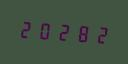eight: (72, 20, 89, 45)
two: (90, 21, 107, 47), (18, 16, 35, 41), (54, 19, 71, 44)
zero: (36, 18, 53, 43)
